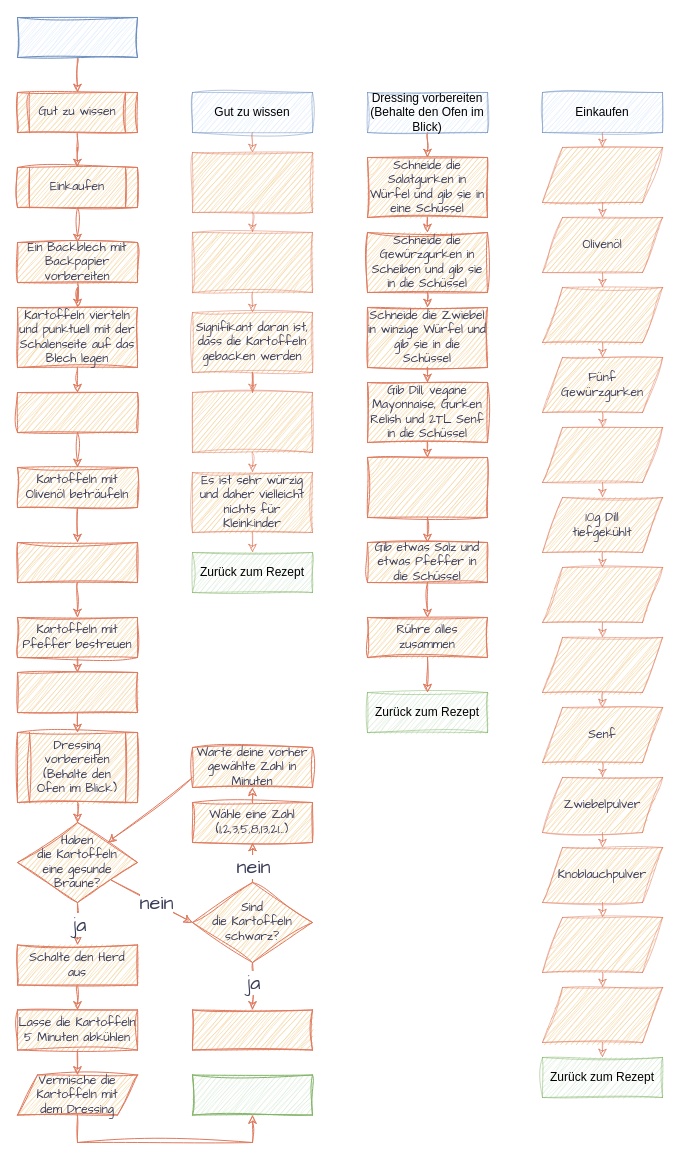
The diagram is 680 pixels wide and 1168 high, and some of its shapes have lost their labels. Here are the shapes that lost their labels. From the top down, the box of each, then its label:
(16, 16, 138, 58): Der beste Kartoffelsalat der Welt
(192, 152, 312, 212): Das Rezept ist nicht von mir
(542, 146, 662, 202): 800g kleine Kartoffeln
(192, 232, 312, 292): Es ist vegan (sagt es Niemandem)
(542, 286, 662, 342): Eine Salatgurke
(16, 392, 138, 432): Ofen auf Umluft und 200°C einstellen
(192, 392, 312, 452): Signifikant daran ist, dass es Gurken Relish beinhaltet
(542, 426, 662, 482): Eine rote Zwiebel
(366, 456, 488, 518): Gib jeweils einen TL Zwiebelpulver und Knoblauchpulver in die Schüssel
(16, 542, 138, 582): Kartoffeln mit Salz bestreuen
(542, 566, 662, 622): 250g vegane Mayonnaise
(542, 636, 662, 692): 100g Gurken Relish
(16, 672, 138, 712): Backblech 30 Minuten in den Ofen stellen
(542, 916, 662, 972): Salz
(192, 1009, 312, 1050): Schmeiß sie weg und kaufe erneut ein
(542, 986, 662, 1042): Pfeffer
(192, 1074, 312, 1115): Guten Appetit!
